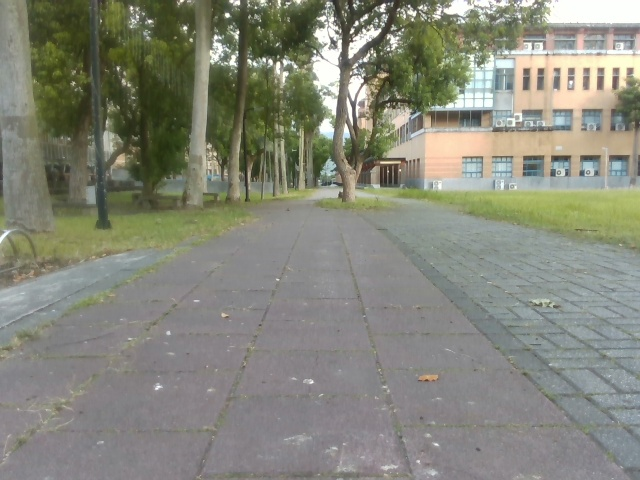grass: (0, 0, 557, 233), (0, 188, 639, 289)
road: (0, 189, 639, 479)
sidewalk: (0, 275, 79, 330)
